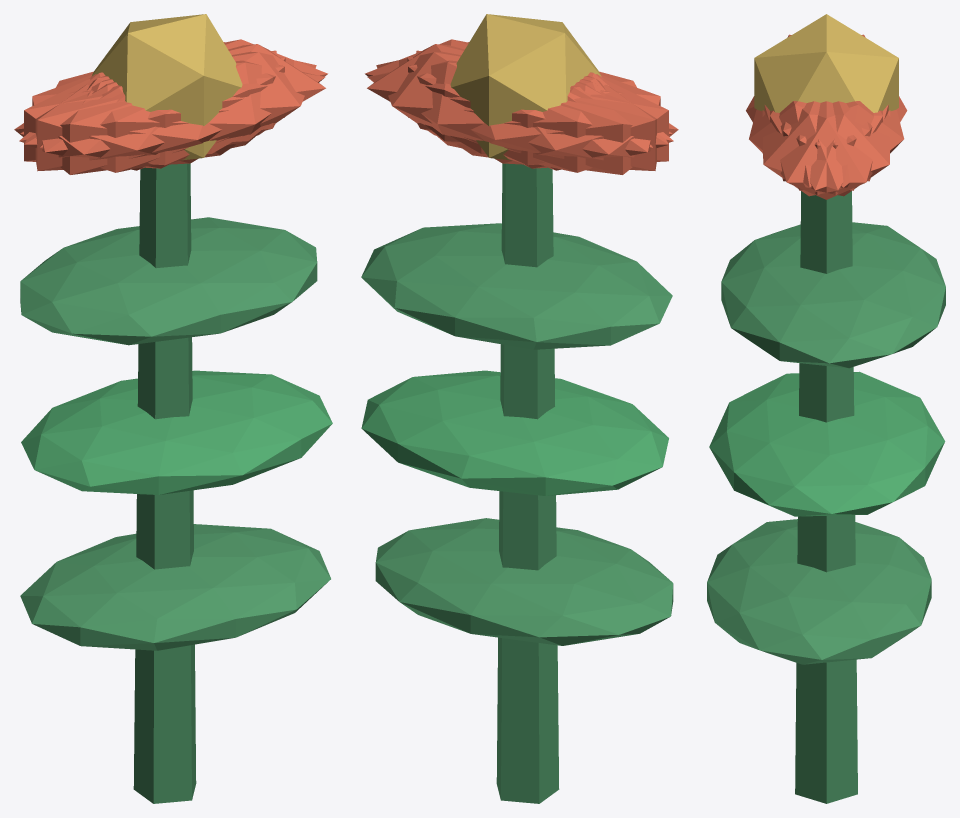
The model's file is adinandra-formosana.glb.
The picture shows the model from 3 angles, left to right: view 1: azimuth 30°, elevation 25°; view 2: azimuth 150°, elevation 25°; view 3: azimuth 270°, elevation 25°; orthographic projection.
Visible parts, largest first — view 1: leaf1, leaf0, leaf2, stem, center, petal1, petal6, petal2, petal5, petal7, petal0, petal4 (+2 smaller); view 2: leaf2, leaf1, leaf0, stem, center, petal8, petal3, petal7, petal4, petal2, petal0, petal5 (+2 smaller); view 3: leaf1, leaf2, leaf0, stem, center, petal0, petal5, petal4, petal8, petal1.
Part boxes in pixels (left/top/right/bottom): leaf1: left=21, top=370, right=332, bottom=494; leaf0: left=20, top=524, right=330, bottom=650; leaf2: left=20, top=217, right=317, bottom=345; stem: left=133, top=163, right=196, bottom=803; center: left=91, top=14, right=242, bottom=160; petal1: left=19, top=60, right=325, bottom=172; petal6: left=14, top=74, right=235, bottom=174; petal2: left=35, top=50, right=276, bottom=171; petal5: left=40, top=51, right=316, bottom=165; petal7: left=24, top=57, right=285, bottom=168; petal0: left=91, top=44, right=325, bottom=154; petal4: left=20, top=39, right=327, bottom=145; leaf2: left=361, top=223, right=672, bottom=349; leaf1: left=361, top=370, right=668, bottom=495; leaf0: left=375, top=518, right=673, bottom=645; stem: left=496, top=163, right=559, bottom=803; center: left=450, top=14, right=601, bottom=160; petal8: left=367, top=60, right=673, bottom=172; petal3: left=457, top=74, right=678, bottom=174; petal7: left=416, top=50, right=656, bottom=170; petal4: left=376, top=51, right=652, bottom=165; petal2: left=407, top=57, right=668, bottom=168; petal0: left=367, top=44, right=601, bottom=154; petal5: left=365, top=39, right=672, bottom=145; leaf1: left=709, top=371, right=945, bottom=516; leaf2: left=721, top=222, right=945, bottom=368; leaf0: left=707, top=519, right=931, bottom=664; stem: left=795, top=191, right=857, bottom=803; center: left=754, top=14, right=898, bottom=112; petal0: left=764, top=101, right=888, bottom=199; petal5: left=762, top=101, right=882, bottom=196; petal4: left=770, top=101, right=890, bottom=196; petal8: left=780, top=101, right=904, bottom=187; petal1: left=749, top=101, right=872, bottom=187.
Bounding box in the file's own units: 0.1452 × 0.3535 × 0.1011.
